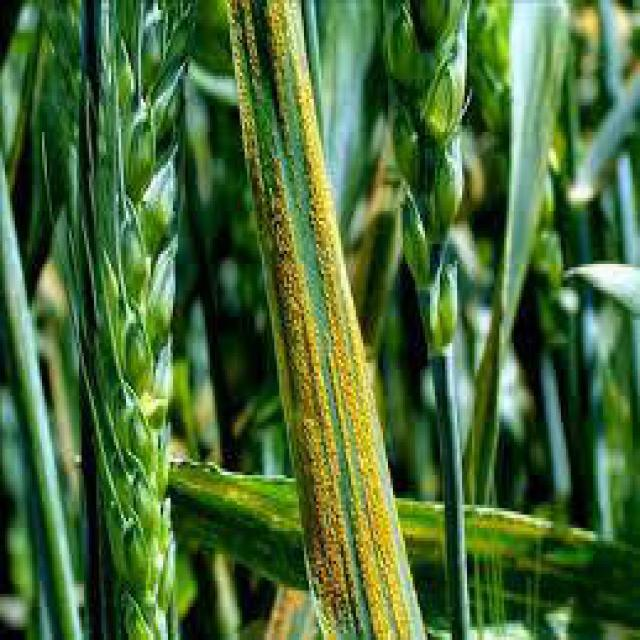wheat-yellowrust: (295, 51, 410, 640), (266, 165, 361, 636), (228, 0, 267, 232), (268, 0, 299, 131), (246, 3, 262, 77)
